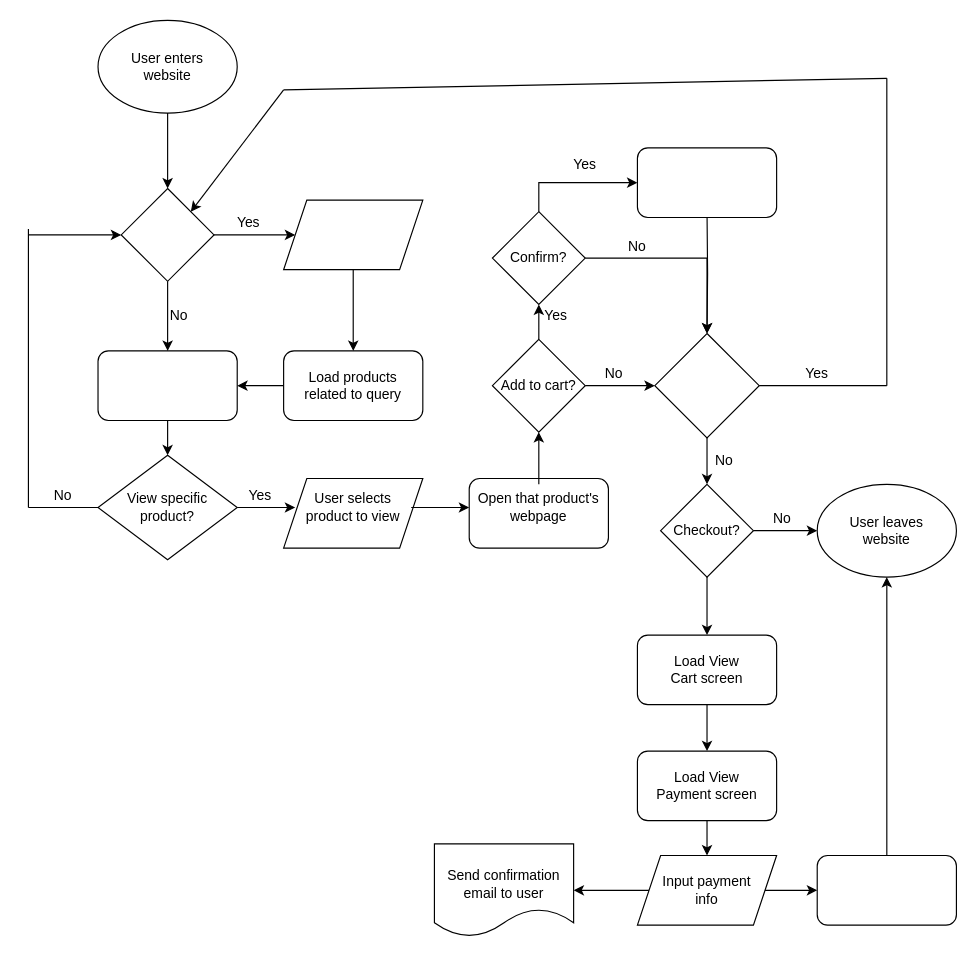
The diagram is 977 pixels wide and 957 high, and some of its shapes have lost their labels. The box of each missing label's shape, as (x1, y1, x2, y2) in pixels:
Add item to user's cart: (636, 147, 777, 217)
Continue shopping?: (654, 332, 759, 438)
Input search query: (282, 199, 423, 270)
Load Order Confirmation screen: (816, 854, 956, 925)
Search?: (120, 187, 214, 281)
User looks over products: (97, 350, 237, 420)
